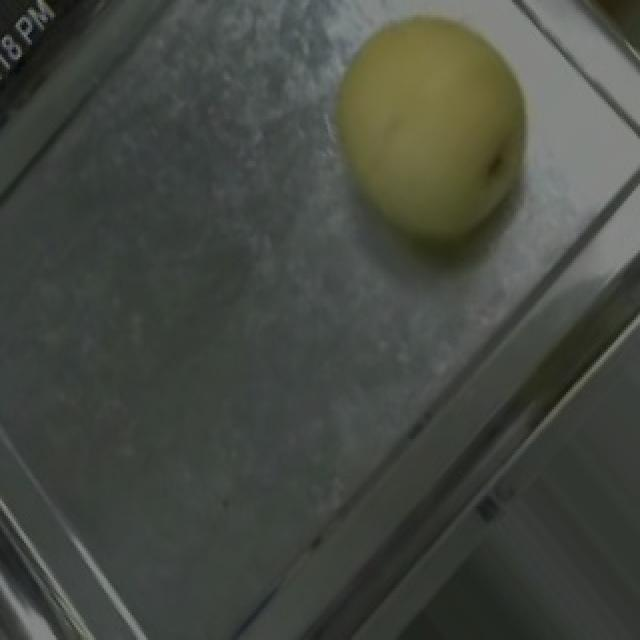Fruit: (292, 0, 578, 288)
